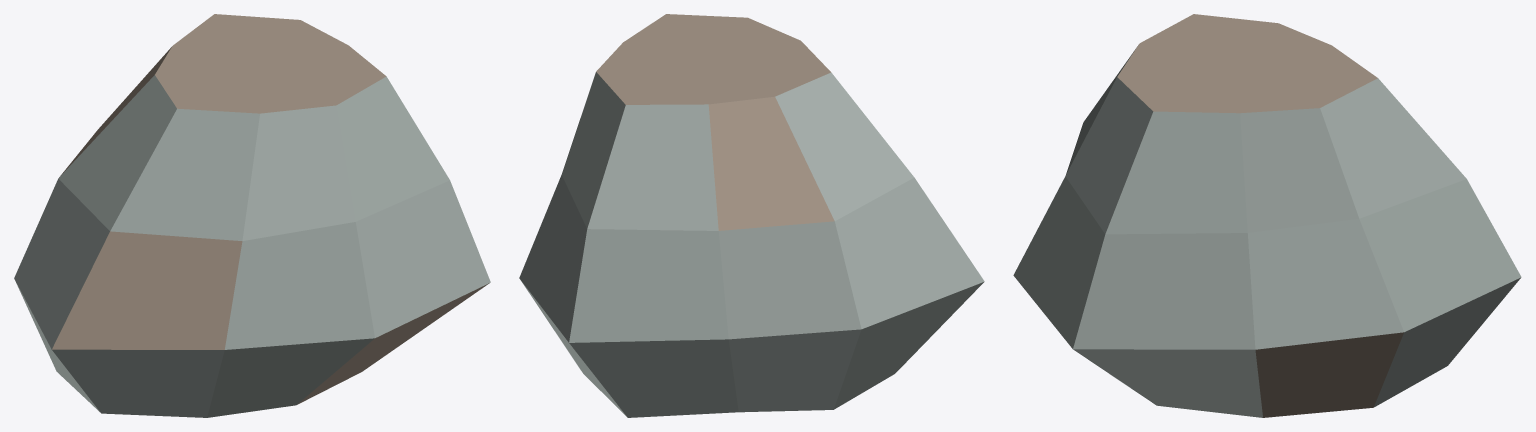
The model's file is silt_stone.glb.
3 renders of one model, left to right at view 1: azimuth 30°, elevation 25°; view 2: azimuth 150°, elevation 25°; view 3: azimuth 270°, elevation 25°, orthographic. The views are drawn at different scales.
Parts seen in each view (by area): view 1: silt_stone; view 2: silt_stone; view 3: silt_stone.
Part boxes in pixels (bbox=[...]): silt_stone: bbox=[14, 14, 490, 417]; silt_stone: bbox=[519, 14, 984, 417]; silt_stone: bbox=[1013, 14, 1521, 417].
Bounding box in the file's own units: 0.947 × 0.66 × 0.9937.
